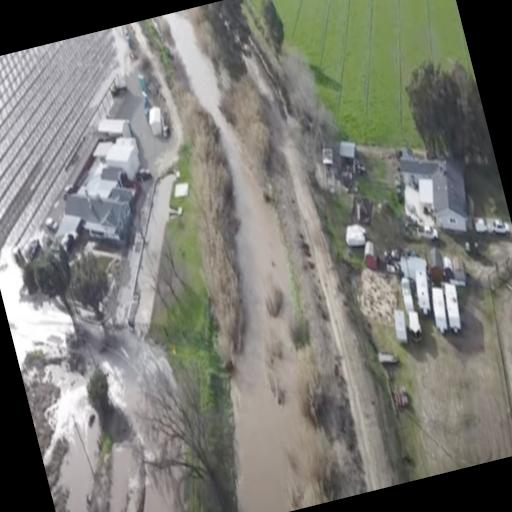flood: (165, 11, 304, 512), (0, 243, 99, 512), (0, 28, 116, 249), (90, 328, 150, 423), (144, 466, 176, 512)
house: (392, 134, 482, 251), (59, 172, 145, 256), (102, 131, 145, 182), (95, 111, 138, 153), (144, 100, 170, 142)
